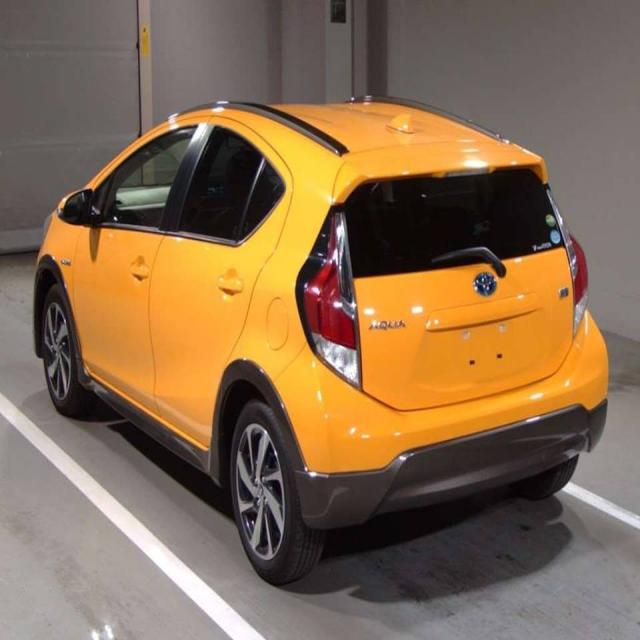car: (21, 80, 632, 598)
